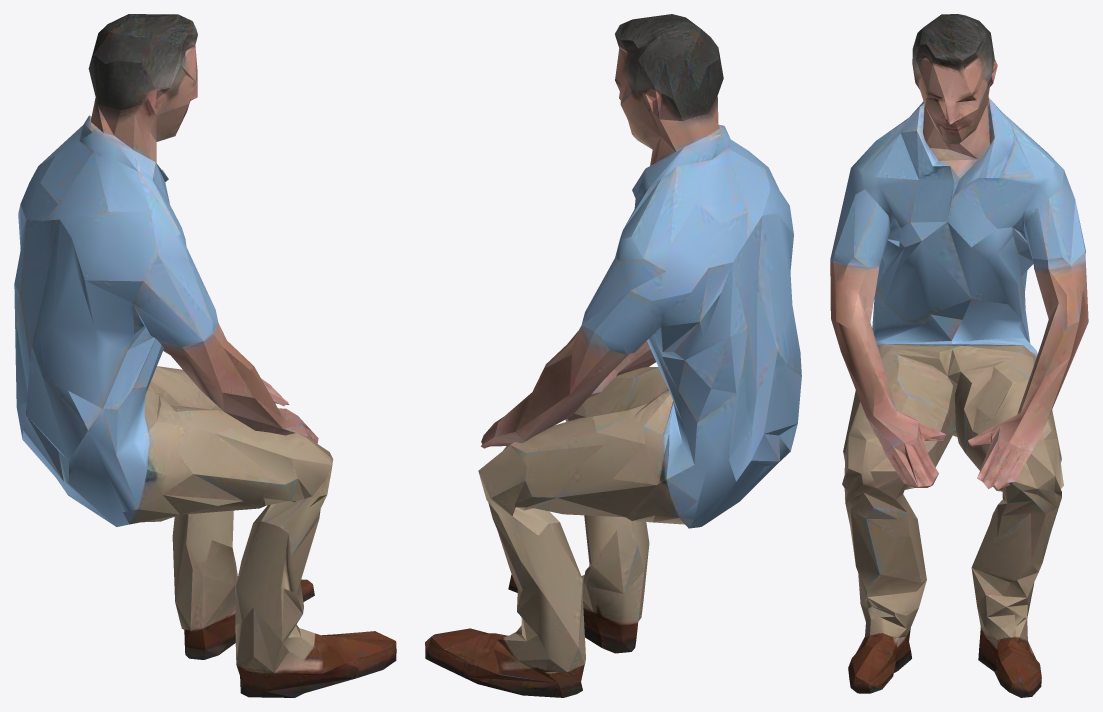
The model's file is crowd-sp-1.glb.
3 views of the same model, side by side, from view 1: azimuth 30°, elevation 25°; view 2: azimuth 150°, elevation 25°; view 3: azimuth 270°, elevation 25° (orthographic). The views are drawn at different scales.
Visible parts, largest first — view 1: char1; view 2: char1; view 3: char1.
Part boxes in pixels (box(x1,y1,x2,y2)): char1: box(14, 14, 396, 697); char1: box(425, 14, 801, 697); char1: box(830, 14, 1088, 697).
Size of the model in its own units: 0.6976 by 1.42 by 0.5482.
1 material, 1 textured.
